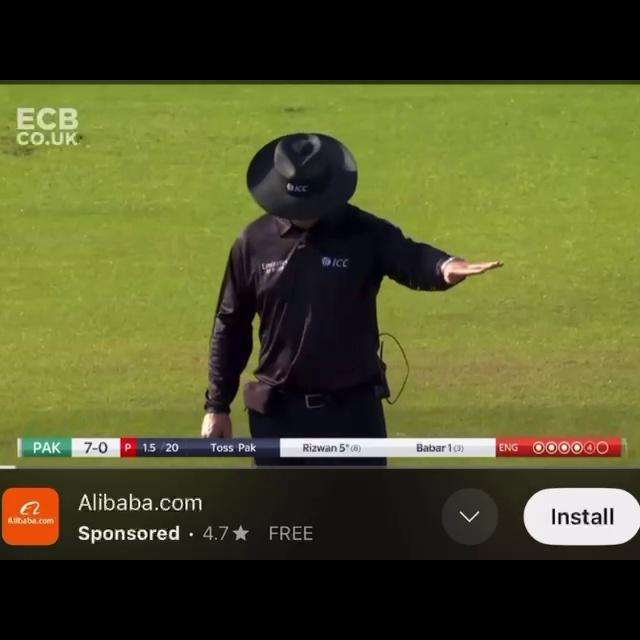umpire: (163, 124, 524, 434)
